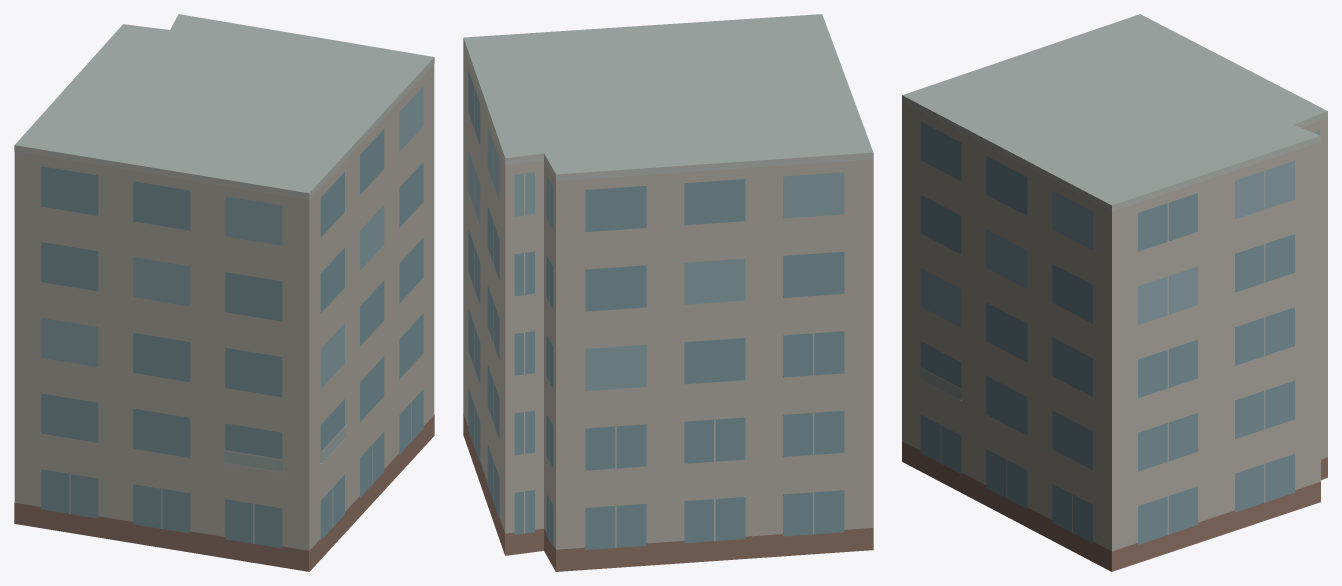
File: survey-upis-32745097.glb
3 renders of one model, left to right at view 1: azimuth 30°, elevation 25°; view 2: azimuth 150°, elevation 25°; view 3: azimuth 270°, elevation 25°, orthographic. The views are drawn at different scales.
Parts seen in each view (by area): view 1: survey-upis-32745097.tmp; view 2: survey-upis-32745097.tmp; view 3: survey-upis-32745097.tmp.
Boxes of the visible parts, x1,y1,x2,y2 form: survey-upis-32745097.tmp: (14,14,434,571); survey-upis-32745097.tmp: (463,14,873,571); survey-upis-32745097.tmp: (902,14,1327,571).
Size of the model in its own units: 16.08 by 14.35 by 15.12.
